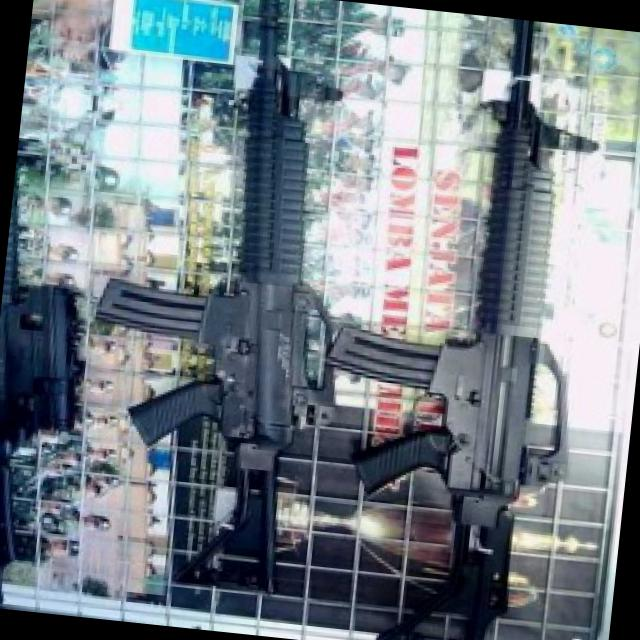long weapon: (268, 16, 604, 635), (70, 0, 379, 624)
